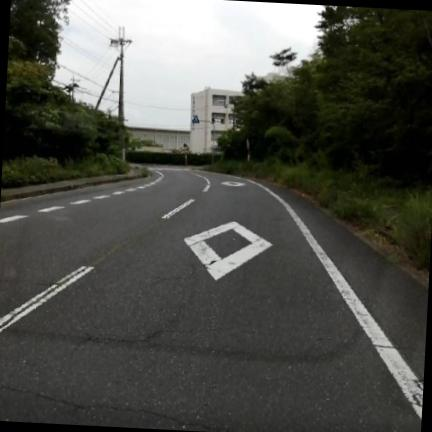Road: (0, 168, 427, 431)
